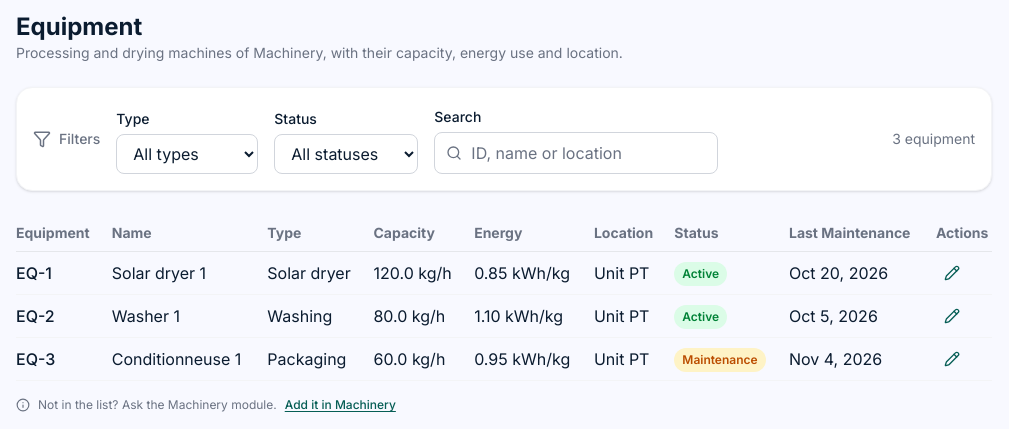
Scenario: EquipmentList › filters by type, status and search
Check: the text "EQ-1" is shown, box x1=16 y1=252 x2=112 y2=294
Select "Solar dryer" in the dropdown named "Filter by type" at (187, 154), box x1=116 y1=134 x2=258 y2=174
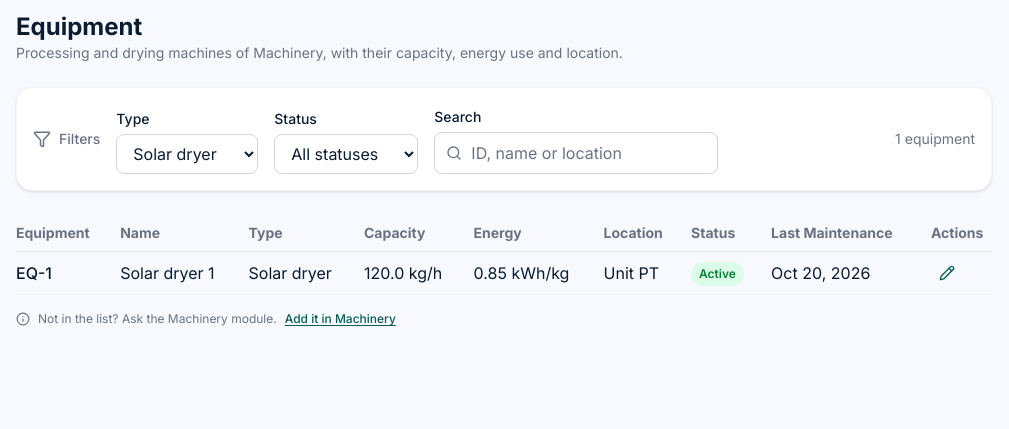
Check: the text "EQ-1" is shown, box x1=16 y1=252 x2=120 y2=294
Check: the text "EQ-2" is gone
Select "All types" in the dropdown named "Filter by type" at (187, 154), box x1=116 y1=134 x2=258 y2=174
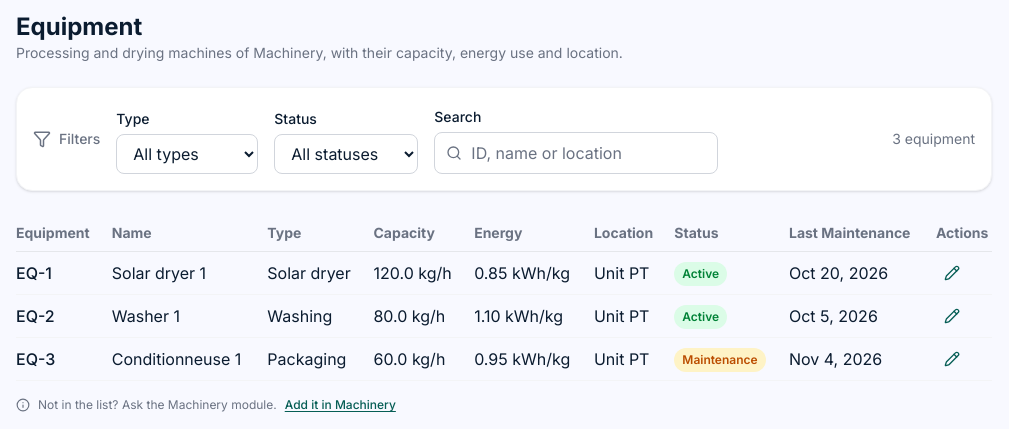
Select "Maintenance" in the dropdown named "Filter by status" at (346, 154), box x1=274 y1=134 x2=418 y2=174
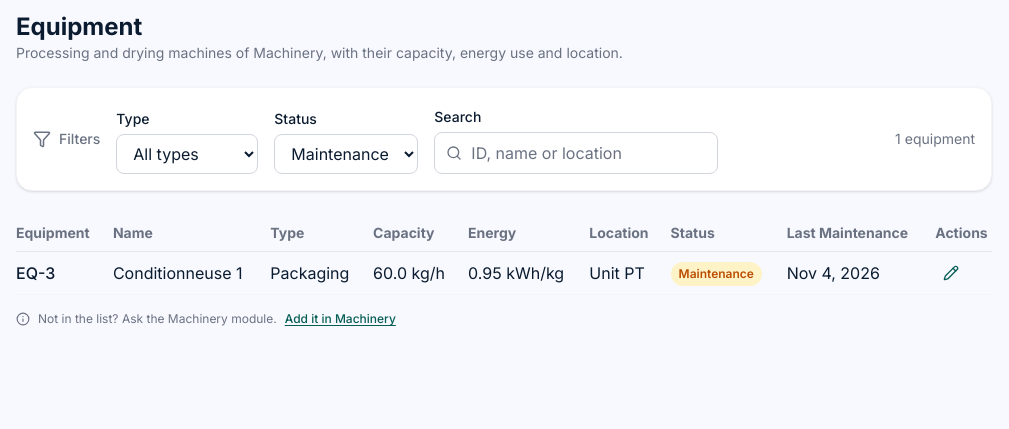
Check: the text "EQ-3" is shown, box x1=16 y1=252 x2=113 y2=294
Check: the text "EQ-1" is gone
Select "All statuses" in the dropdown named "Filter by status" at (346, 154), box x1=274 y1=134 x2=418 y2=174
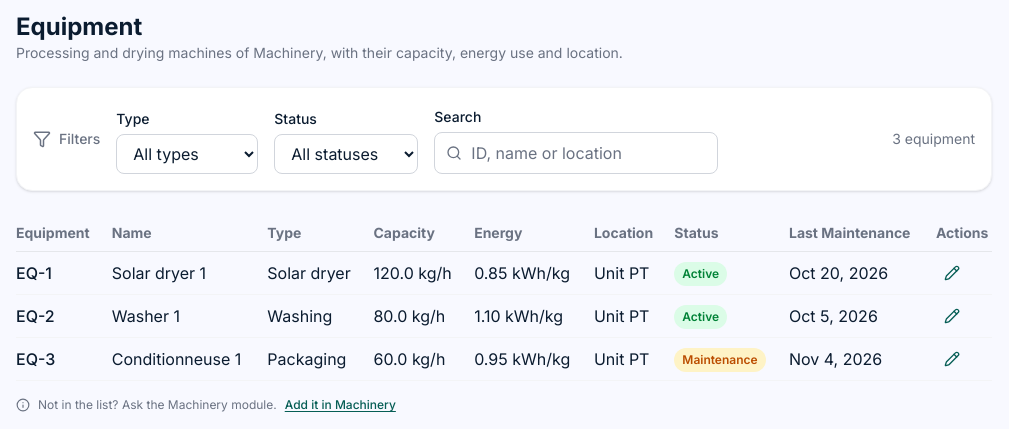
Type "washer" into the search field named "Search equipment".
click(576, 153); type("washer")  # box x1=434 y1=132 x2=718 y2=174
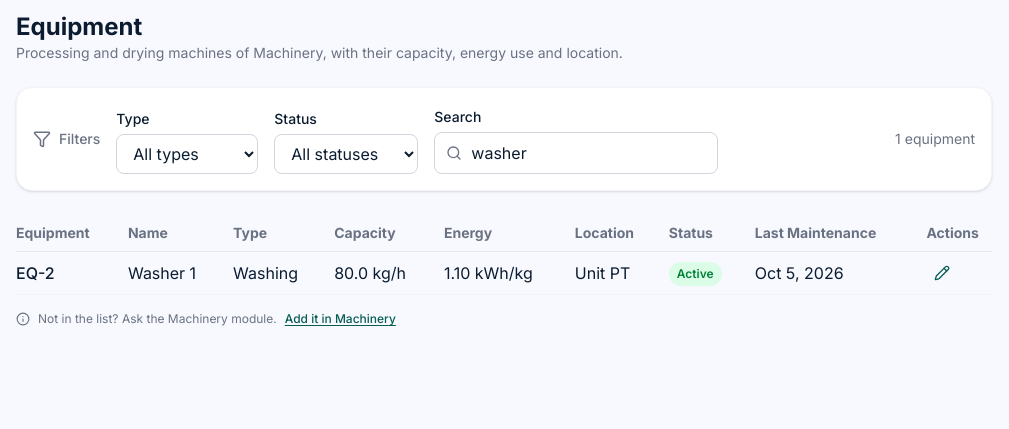
Check: the text "EQ-2" is shown, box x1=16 y1=252 x2=128 y2=294
Check: the text "EQ-1" is gone
